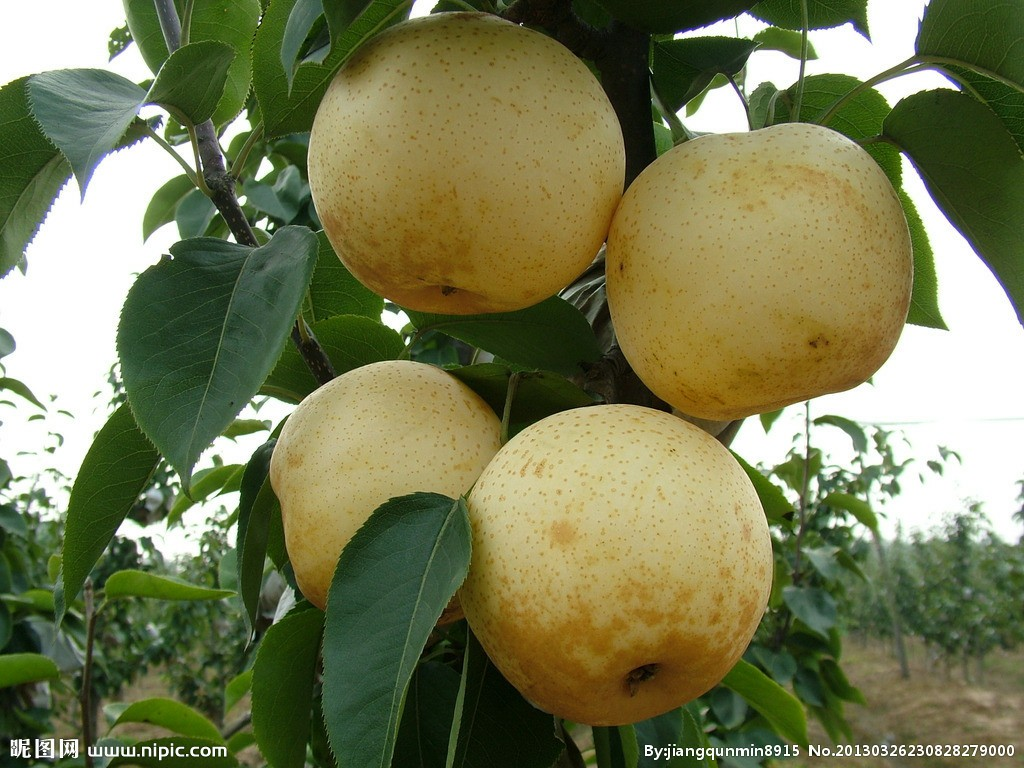pear: (463, 402, 773, 721), (309, 11, 625, 311), (607, 122, 914, 419), (269, 356, 510, 629)
